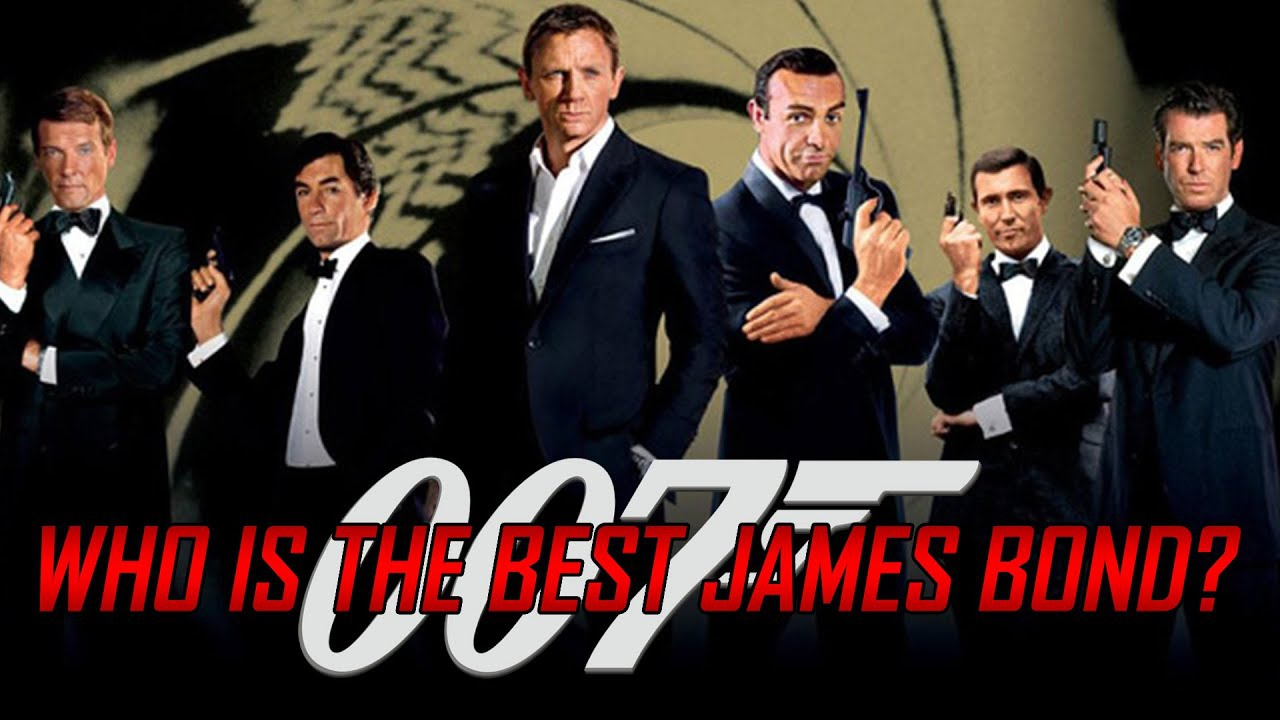bad: (760, 80, 868, 187), (967, 179, 1042, 254), (278, 163, 353, 237), (536, 55, 610, 130), (1158, 130, 1232, 204), (38, 135, 100, 198)
